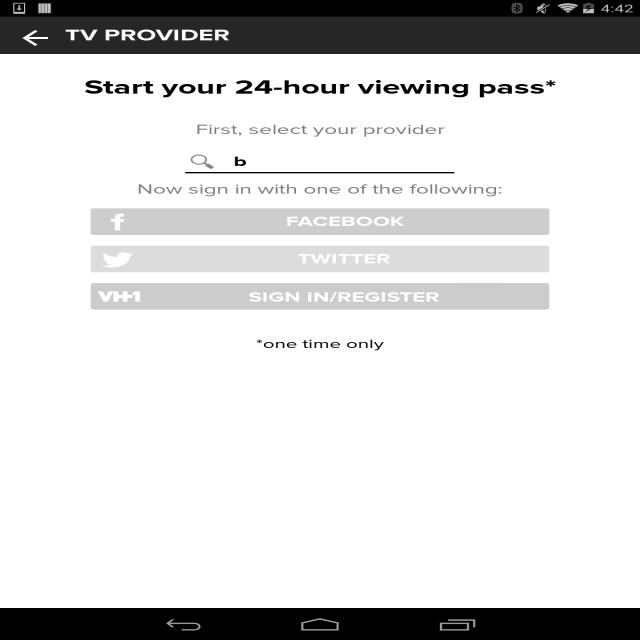Button: (91, 208, 549, 235), (91, 283, 549, 310), (91, 246, 549, 272)
EditText: (180, 146, 458, 178)
ImageButton: (0, 19, 65, 57)
TextView: (11, 75, 629, 100), (11, 180, 629, 198), (11, 121, 629, 138), (11, 336, 629, 352), (65, 26, 230, 45)
